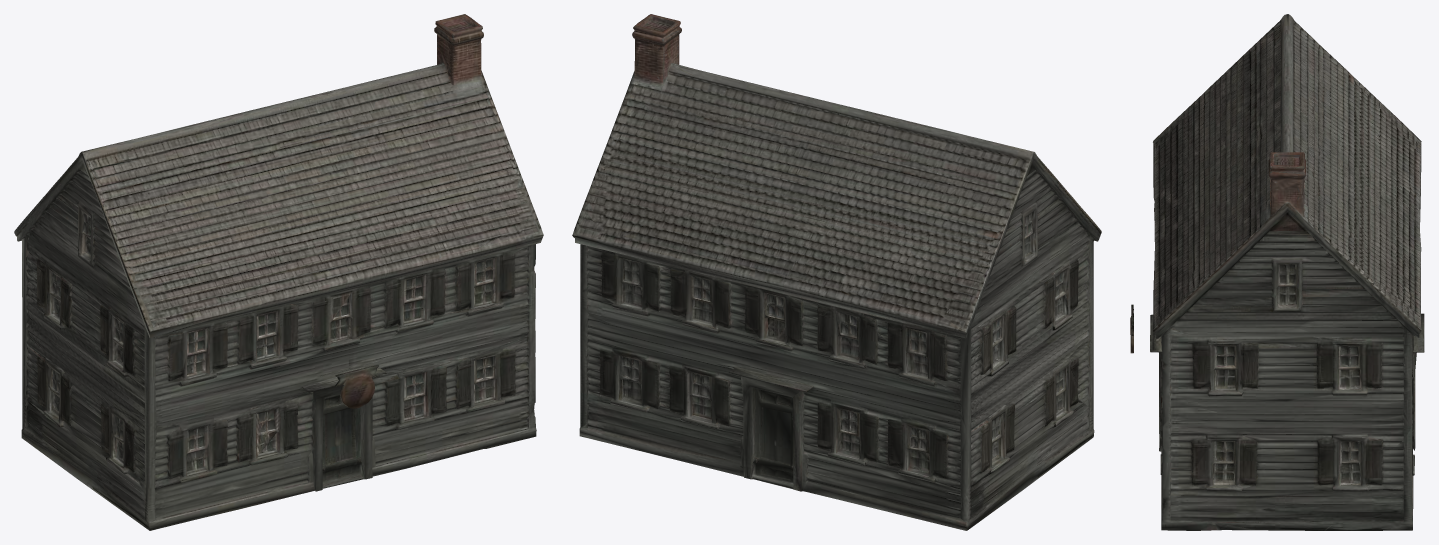
The model's file is bldg-tavern.glb.
3 renders of one model, left to right at view 1: azimuth 30°, elevation 25°; view 2: azimuth 150°, elevation 25°; view 3: azimuth 270°, elevation 25°, orthographic.
Parts seen in each view (by area): view 1: Mesh_0; view 2: Mesh_0; view 3: Mesh_0.
Part boxes in pixels (left/top/right/bottom): Mesh_0: left=14, top=14, right=543, bottom=530; Mesh_0: left=572, top=14, right=1101, bottom=530; Mesh_0: left=1130, top=14, right=1424, bottom=530.
Size of the model in its own units: 1.9 by 1.71 by 1.24.
Materials: 1 (1 with a texture image).
